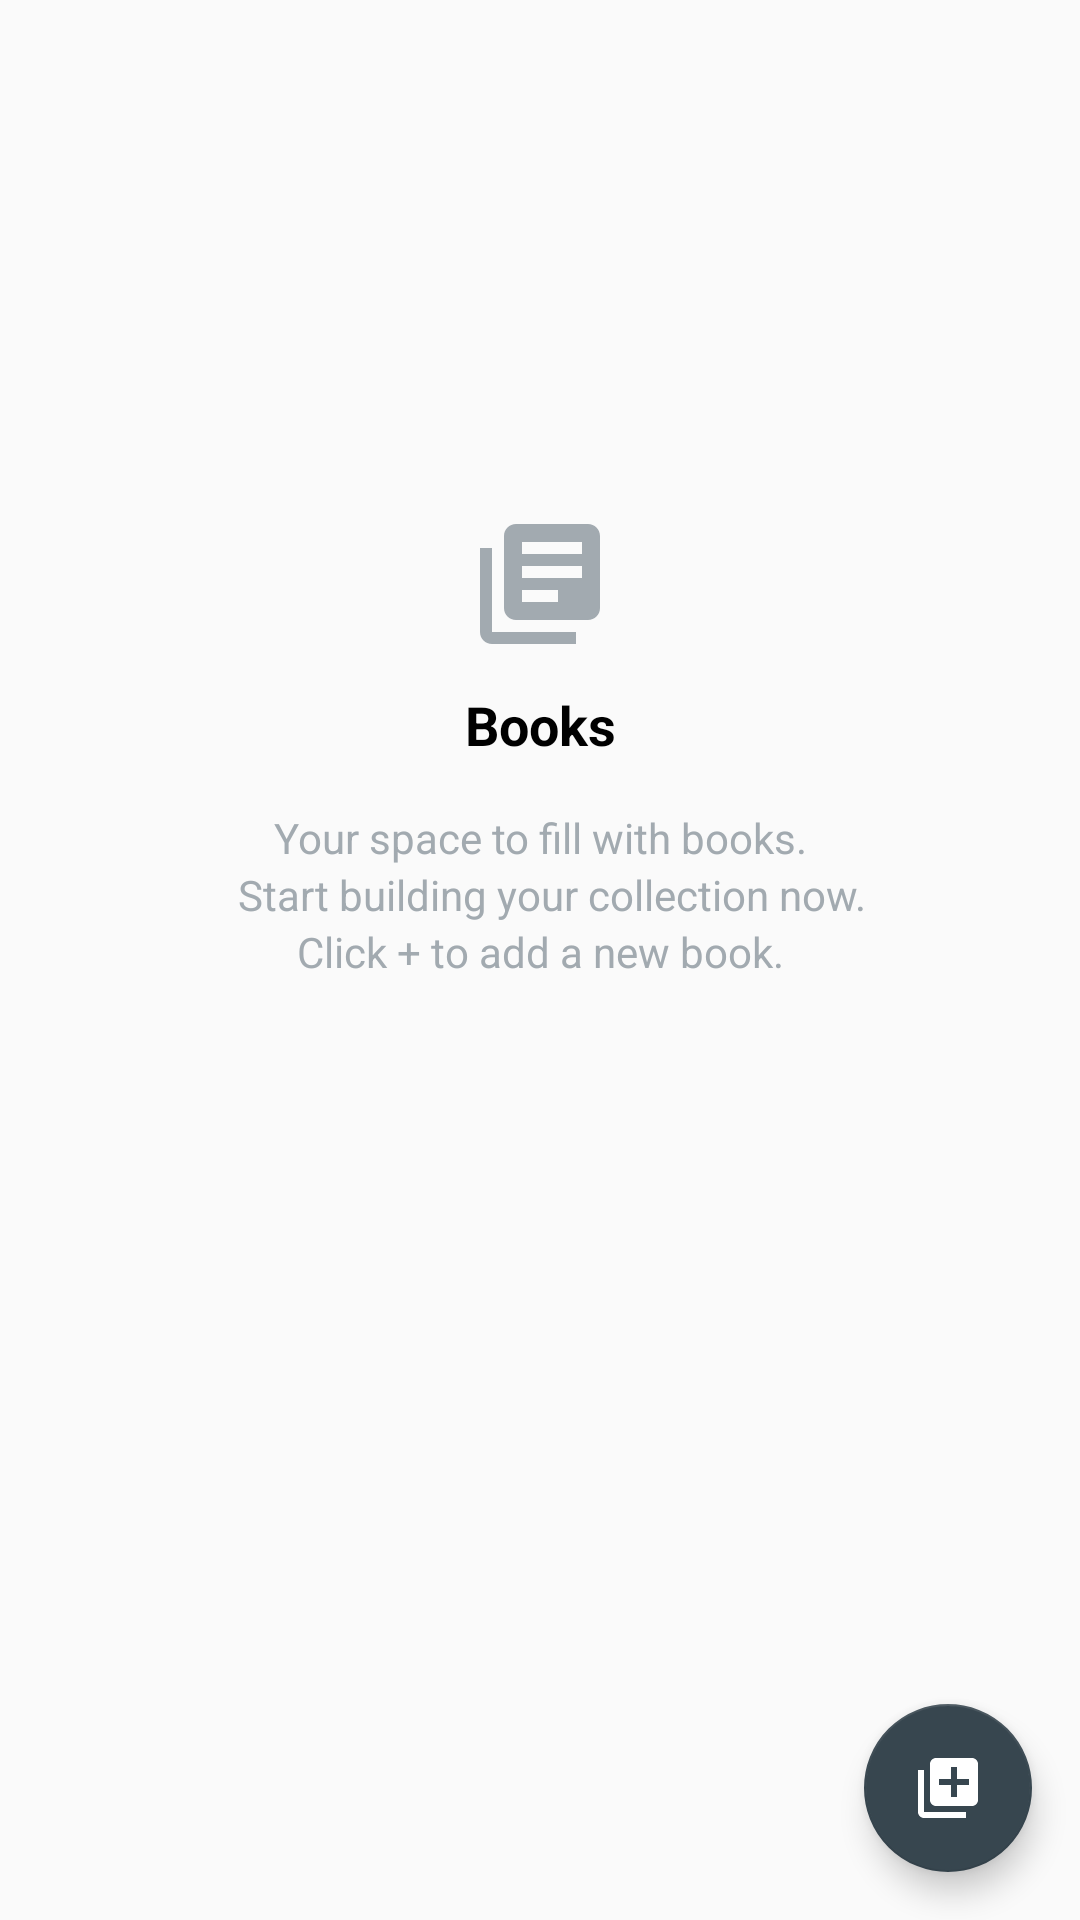

Icons on this 1080×1920 Android screen, each with its box as (x1, y1, x2, y2):
fab: (864, 1704, 1032, 1872)
